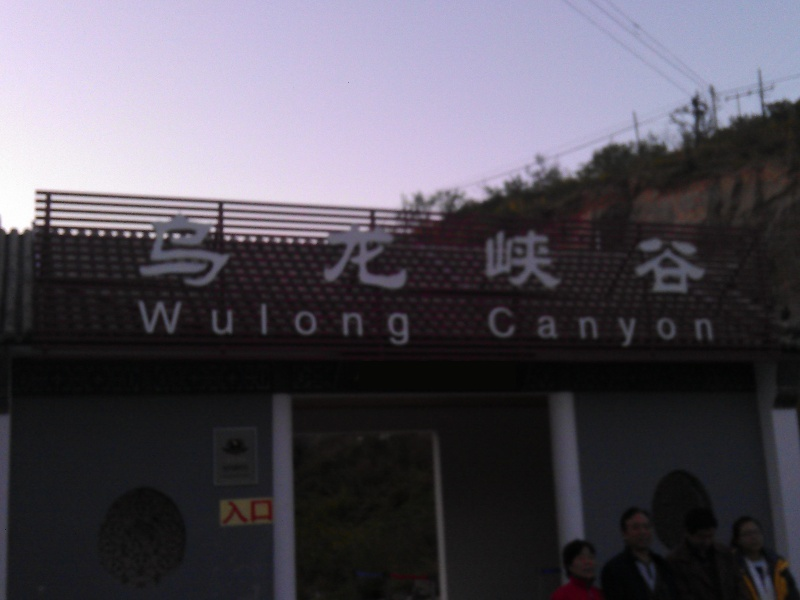text: (145, 215, 160, 299), (161, 215, 176, 299), (177, 215, 192, 299), (193, 215, 208, 299), (209, 215, 224, 299), (225, 215, 240, 299), (241, 215, 256, 299), (257, 215, 272, 299), (273, 215, 288, 299), (289, 215, 304, 299), (305, 215, 320, 299), (321, 215, 336, 299), (337, 215, 352, 299), (353, 215, 368, 299), (369, 215, 384, 299), (385, 215, 400, 299), (401, 215, 416, 299), (417, 215, 432, 299), (433, 215, 448, 299), (449, 215, 464, 299), (465, 215, 480, 299), (481, 215, 496, 299), (497, 215, 512, 299), (513, 215, 528, 299), (529, 215, 544, 299), (545, 215, 560, 299), (561, 215, 576, 299), (577, 215, 592, 299), (593, 215, 608, 299), (609, 215, 624, 299), (625, 215, 640, 299), (641, 215, 656, 299), (657, 215, 672, 299), (673, 215, 688, 299), (689, 215, 704, 299), (145, 301, 160, 347), (161, 301, 176, 347), (177, 301, 192, 347), (193, 301, 208, 347), (209, 301, 224, 347), (225, 301, 240, 347), (241, 301, 256, 347), (257, 301, 272, 347), (273, 301, 288, 347), (289, 301, 304, 347), (305, 301, 320, 347), (321, 301, 336, 347), (337, 301, 352, 347), (353, 301, 368, 347), (369, 301, 384, 347), (385, 301, 400, 347), (136, 215, 144, 299), (497, 308, 512, 349), (513, 308, 528, 349), (529, 308, 544, 349), (545, 308, 560, 349), (561, 308, 576, 349), (577, 308, 592, 349), (593, 308, 608, 349), (609, 308, 624, 349), (625, 308, 640, 349), (641, 308, 656, 349), (657, 308, 672, 349), (673, 308, 688, 349), (689, 308, 704, 349), (401, 301, 412, 347), (225, 498, 240, 527), (241, 498, 256, 527), (257, 498, 272, 527), (705, 215, 710, 299), (486, 308, 496, 349), (705, 308, 715, 349), (139, 301, 144, 347), (222, 498, 224, 527), (273, 498, 275, 527)
